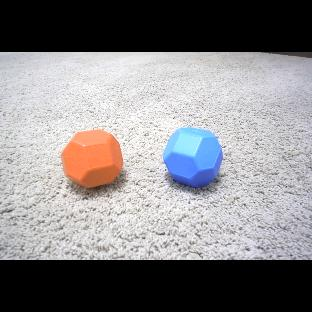V5_BLUE: (164, 125, 224, 188)
V5_RED: (63, 129, 122, 189)
